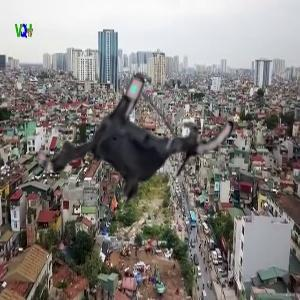drone: (38, 49, 232, 243)
